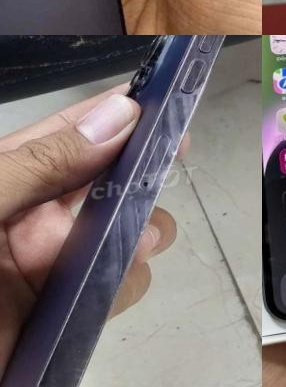scratch: (187, 35, 240, 68), (61, 329, 90, 366)
